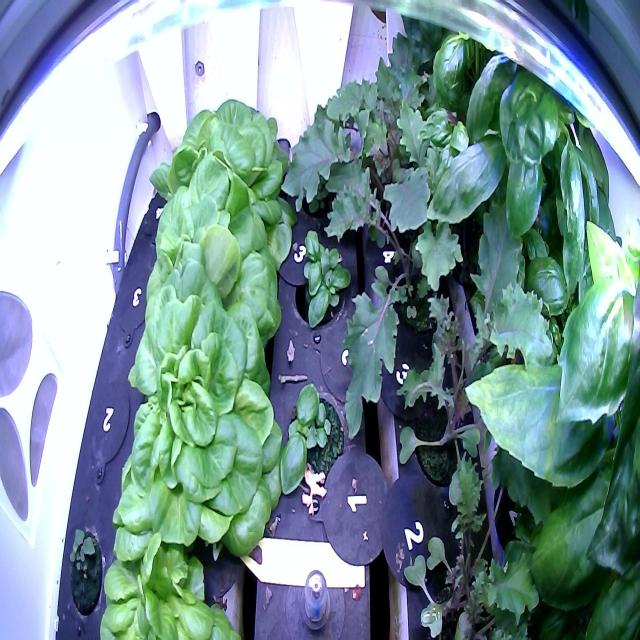Ready: (106, 295, 290, 567), (135, 153, 294, 336), (143, 88, 296, 224)
empty_pod: (86, 377, 132, 475), (114, 258, 154, 338), (140, 173, 176, 241)
young: (97, 518, 283, 638)
